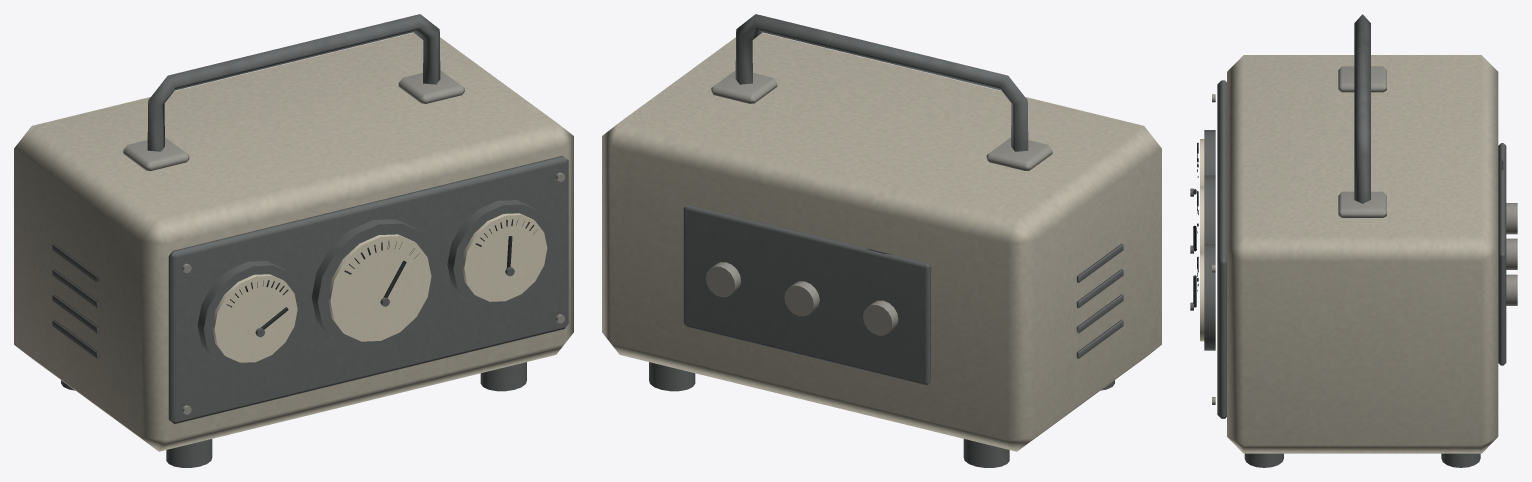
File: 05-portable-gravimeter.fbx
3 renders of one model, left to right at view 1: azimuth 30°, elevation 25°; view 2: azimuth 150°, elevation 25°; view 3: azimuth 270°, elevation 25°, orthographic. The views are drawn at different scales.
Parts seen in each view (by area): view 1: Instrument housing, Face plate, Gauge face.001, Carry handle, Gauge face.002, Gauge face, Gauge bezel.001, Gauge bezel, Gauge bezel.002, Handle mount, Handle mount.001, Rubber foot (+1 smaller); view 2: Instrument housing, Rear service panel, Carry handle, Handle mount.001, Handle mount, Rubber foot.001, Rubber foot.003, Rear connector.001, Rear connector, Rear connector.002; view 3: Instrument housing, Face plate, Carry handle, Rear service panel, Gauge bezel.002, Handle mount.001, Handle mount, Gauge bezel.001, Gauge bezel, Rubber foot.003, Rubber foot.002, Gauge face.002 (+3 smaller).
Part boxes in pixels (<box>): Instrument housing: <box>14,32,573,451</box>; Face plate: <box>168,156,568,423</box>; Gauge face.001: <box>328,234,431,341</box>; Carry handle: <box>147,14,440,151</box>; Gauge face.002: <box>462,213,547,301</box>; Gauge face: <box>212,274,297,362</box>; Gauge bezel.001: <box>311,219,439,350</box>; Gauge bezel: <box>197,261,303,369</box>; Gauge bezel.002: <box>447,200,553,308</box>; Handle mount: <box>123,137,189,170</box>; Handle mount.001: <box>398,70,464,103</box>; Rubber foot: <box>166,439,212,467</box>; Instrument housing: <box>602,32,1161,451</box>; Rear service panel: <box>683,204,930,385</box>; Carry handle: <box>735,14,1028,151</box>; Handle mount.001: <box>711,70,777,103</box>; Handle mount: <box>986,137,1052,170</box>; Rubber foot.001: <box>963,439,1009,467</box>; Rubber foot.003: <box>649,362,695,391</box>; Rear connector.001: <box>784,281,819,316</box>; Rear connector: <box>863,300,898,335</box>; Rear connector.002: <box>705,262,740,297</box>; Instrument housing: <box>1227,55,1498,453</box>; Face plate: <box>1217,80,1226,418</box>; Carry handle: <box>1354,14,1370,203</box>; Rear service panel: <box>1498,143,1506,365</box>; Gauge bezel.002: <box>1204,244,1215,350</box>; Handle mount.001: <box>1338,191,1386,217</box>; Handle mount: <box>1338,66,1386,92</box>; Gauge bezel.001: <box>1204,175,1215,243</box>; Gauge bezel: <box>1204,130,1215,175</box>; Rubber foot.003: <box>1441,453,1480,467</box>; Rubber foot.002: <box>1244,453,1283,467</box>; Gauge face.002: <box>1200,253,1204,341</box>.
Size of the model in its own units: 46 by 34 by 32.
5 materials, 5 textured.
